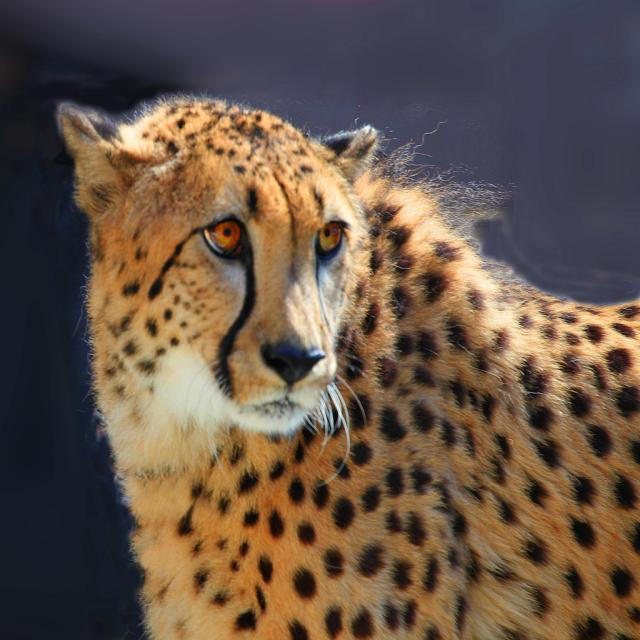Cheetah: (56, 92, 640, 640)
